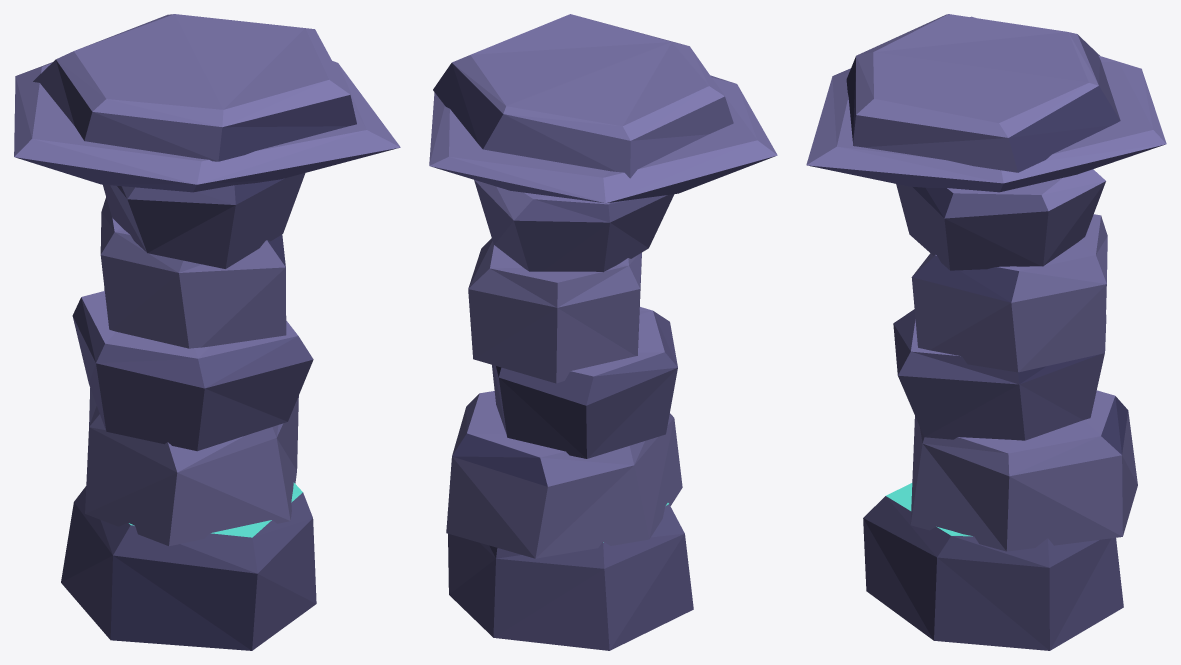
File: rock_pillar_deep.fbx
3 views of the same model, side by side, from view 1: azimuth 30°, elevation 25°; view 2: azimuth 150°, elevation 25°; view 3: azimuth 270°, elevation 25° (orthographic). The views are drawn at different scales.
Parts seen in each view (by area): view 1: rock_pillar_deep; view 2: rock_pillar_deep; view 3: rock_pillar_deep.
Boxes of the visible parts, x1=… form: rock_pillar_deep: x1=14, y1=14, x2=400, y2=650; rock_pillar_deep: x1=429, y1=14, x2=777, y2=650; rock_pillar_deep: x1=806, y1=14, x2=1166, y2=650.
Size of the model in its own units: 1438 by 2219 by 1355.
Materials: 1 (1 with a texture image).
